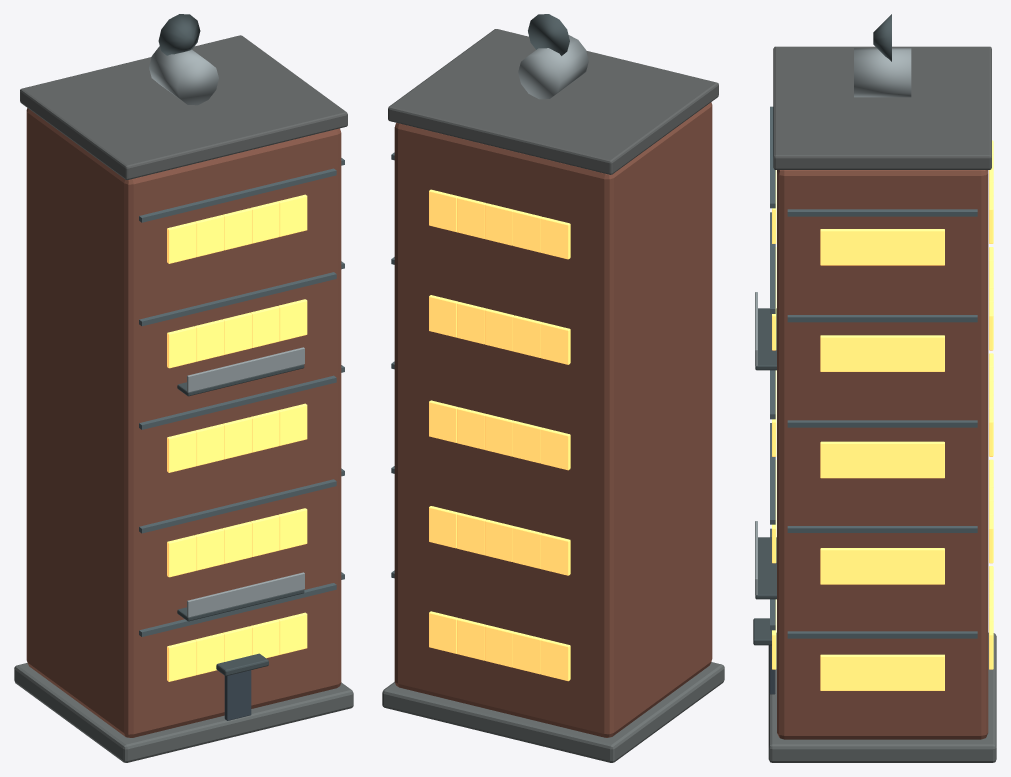
Rendered from residential_walkup_5.glb.
The picture shows the model from 3 angles, left to right: view 1: azimuth 30°, elevation 25°; view 2: azimuth 150°, elevation 25°; view 3: azimuth 270°, elevation 25°; orthographic projection.
Visible parts, largest first — view 1: main_massing, roof_slab, foundation, water_tank, balcony_rail, balcony_rail.001, facade_band_front.001, facade_band_front.004, facade_band_front.002, facade_band_front.003, water_tank_cap, entry_door (+29 smaller); view 2: main_massing, roof_slab, foundation, water_tank, water_tank_cap, rear_window.010, rear_window.005, rear_window.015, rear_window, rear_window.020, rear_window.007, rear_window.016 (+18 smaller); view 3: main_massing, roof_slab, foundation, water_tank, facade_band_side, facade_band_side.002, facade_band_side.004, facade_band_side.003, facade_band_side.001, side_window.011, side_window.008, side_window.010 (+24 smaller).
Part boxes in pixels (left/top/right/bottom): main_massing: left=26, top=108, right=341, bottom=737; roof_slab: left=20, top=35, right=347, bottom=179; foundation: left=14, top=663, right=353, bottom=762; water_tank: left=149, top=46, right=218, bottom=105; balcony_rail: left=187, top=572, right=304, bottom=617; balcony_rail.001: left=187, top=347, right=304, bottom=392; facade_band_front.001: left=139, top=479, right=336, bottom=533; facade_band_front.004: left=139, top=168, right=336, bottom=222; facade_band_front.002: left=139, top=375, right=336, bottom=429; facade_band_front.003: left=139, top=272, right=336, bottom=326; water_tank_cap: left=158, top=14, right=200, bottom=55; entry_door: left=224, top=670, right=251, bottom=720; main_massing: left=394, top=102, right=712, bottom=737; roof_slab: left=388, top=29, right=718, bottom=174; foundation: left=382, top=662, right=724, bottom=762; water_tank: left=518, top=35, right=588, bottom=99; water_tank_cap: left=528, top=14, right=569, bottom=55; rear_window.010: left=540, top=427, right=570, bottom=470; rear_window.005: left=540, top=533, right=570, bottom=575; rear_window.015: left=540, top=322, right=570, bottom=364; rear_window: left=540, top=638, right=570, bottom=681; rear_window.020: left=540, top=217, right=570, bottom=259; rear_window.007: left=484, top=519, right=514, bottom=561; rear_window.016: left=512, top=315, right=542, bottom=357; main_massing: left=777, top=170, right=988, bottom=739; roof_slab: left=773, top=46, right=991, bottom=169; foundation: left=768, top=632, right=996, bottom=762; water_tank: left=854, top=48, right=911, bottom=97; facade_band_side: left=787, top=631, right=977, bottom=638; facade_band_side.002: left=787, top=420, right=977, bottom=427; facade_band_side.004: left=787, top=209, right=977, bottom=216; facade_band_side.003: left=787, top=315, right=977, bottom=322; facade_band_side.001: left=787, top=526, right=977, bottom=532; side_window.011: left=820, top=441, right=852, bottom=478; side_window.008: left=913, top=441, right=944, bottom=478; side_window.010: left=851, top=441, right=882, bottom=478.
Bounding box in the file's own units: 1.32 × 3.72 × 1.18.
